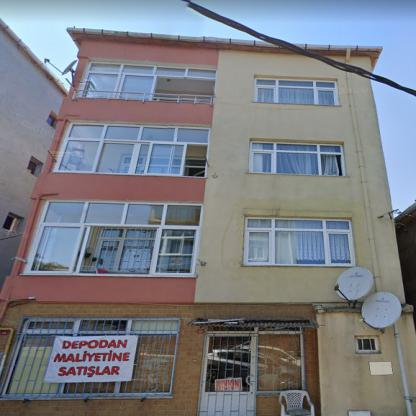door: (200, 334, 252, 414), (27, 158, 39, 174), (3, 216, 16, 230), (47, 112, 57, 126)
window: (28, 200, 202, 274), (53, 121, 208, 175), (79, 62, 216, 102), (246, 218, 350, 263), (252, 142, 342, 174), (259, 334, 303, 391), (254, 78, 338, 104), (357, 338, 375, 352)
